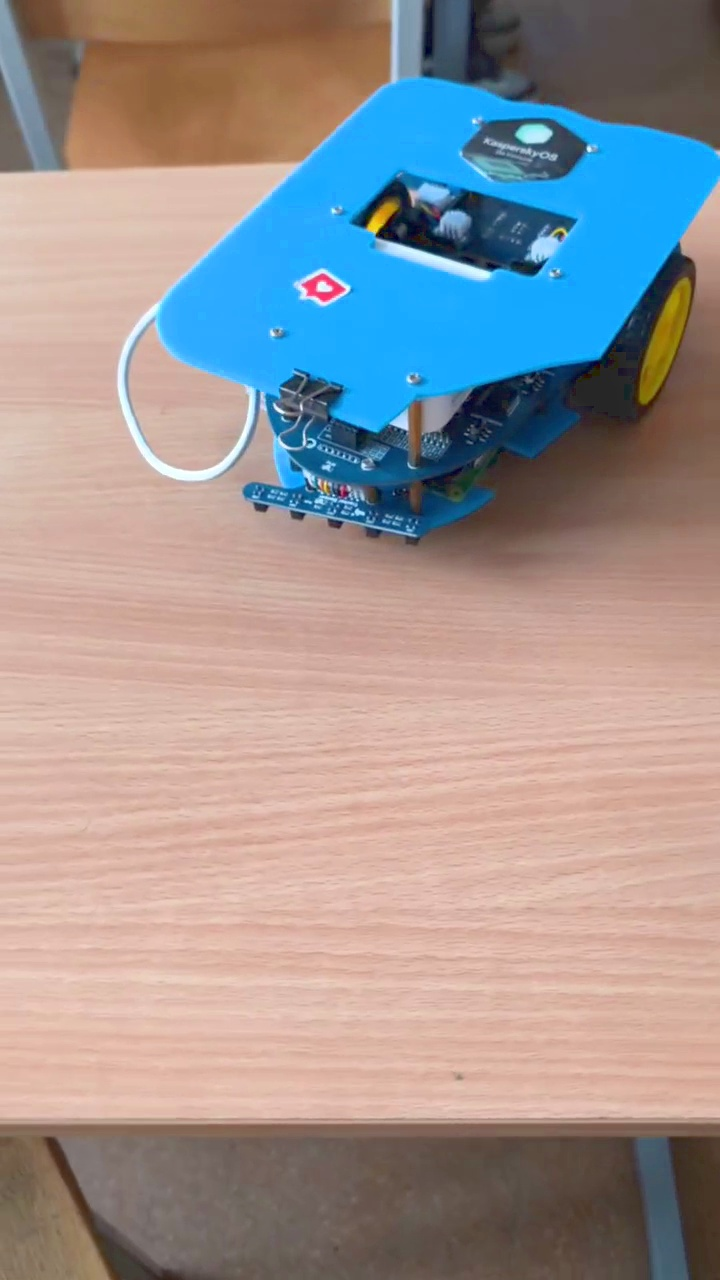robot: (116, 77, 720, 550)
